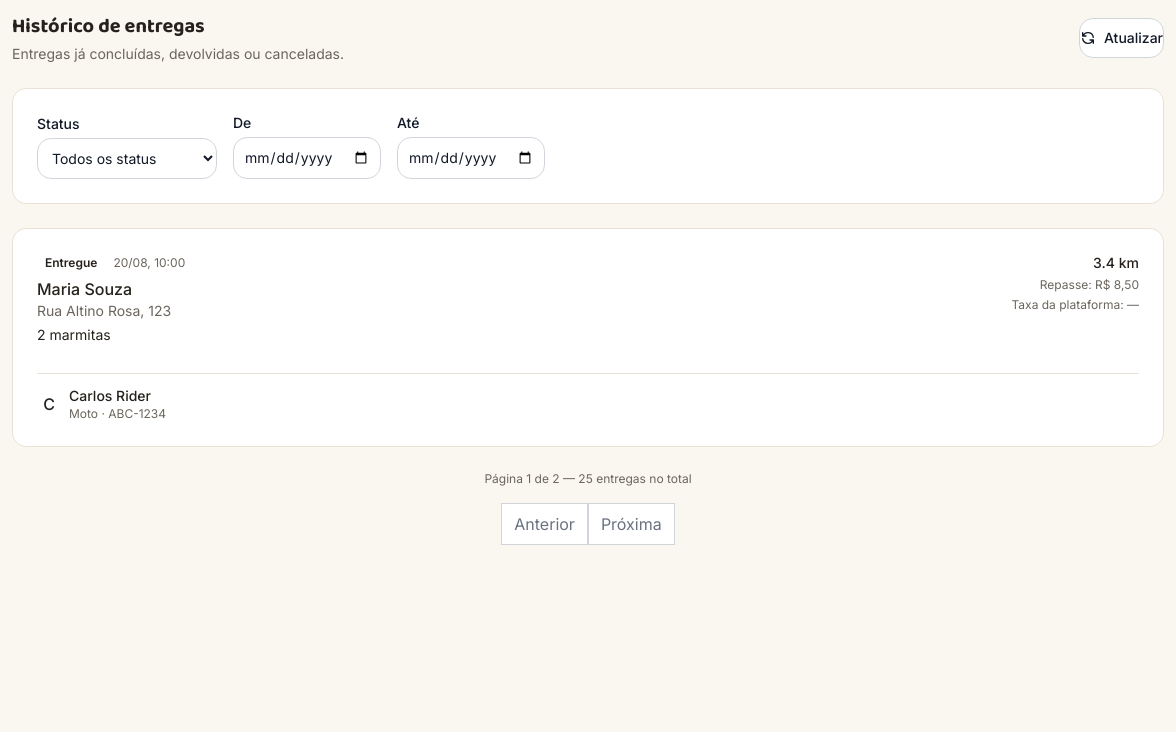
Scenario: HistoricoPage › mostra a paginação e navega para a próxima página
expect the text "Maria Souza" is shown: met, box x1=37 y1=279 x2=132 y2=299
expect the text "Página 1 de 2 — 25 entregas no total" is shown: met, box x1=484 y1=471 x2=692 y2=487
Click the button "Próxima" at (631, 524), box x1=588 y1=503 x2=675 y2=545
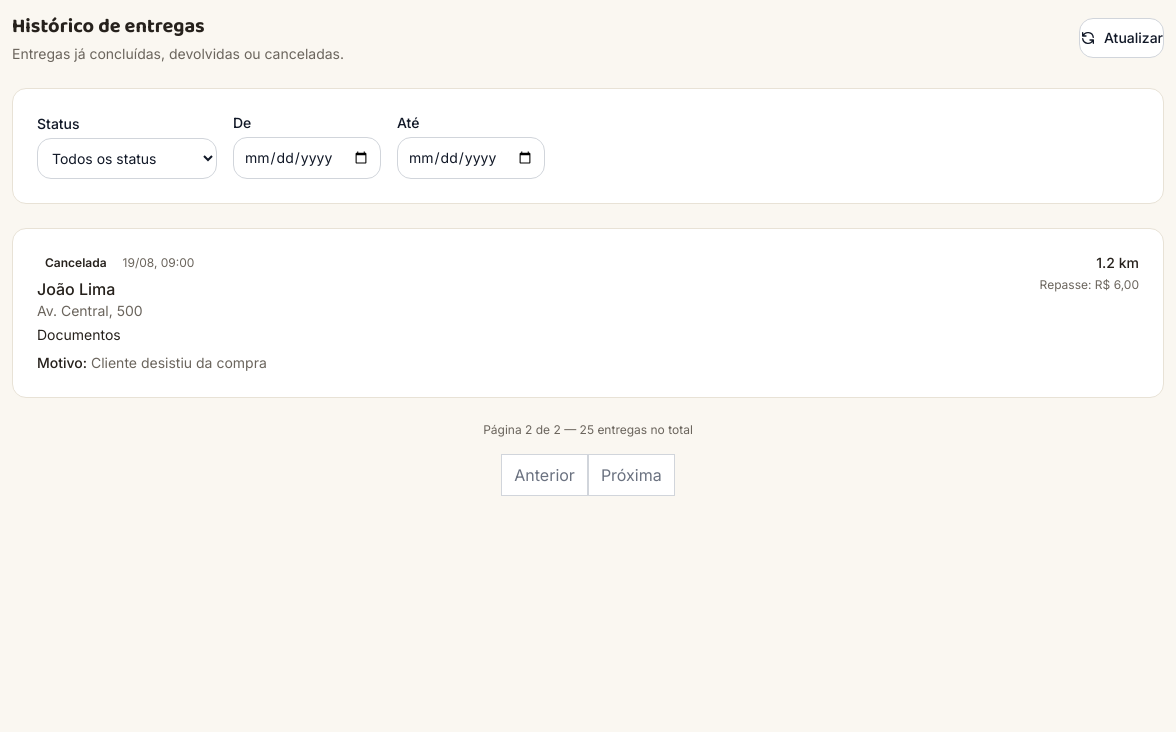
expect the text "João Lima" is shown: met, box x1=37 y1=279 x2=115 y2=299
